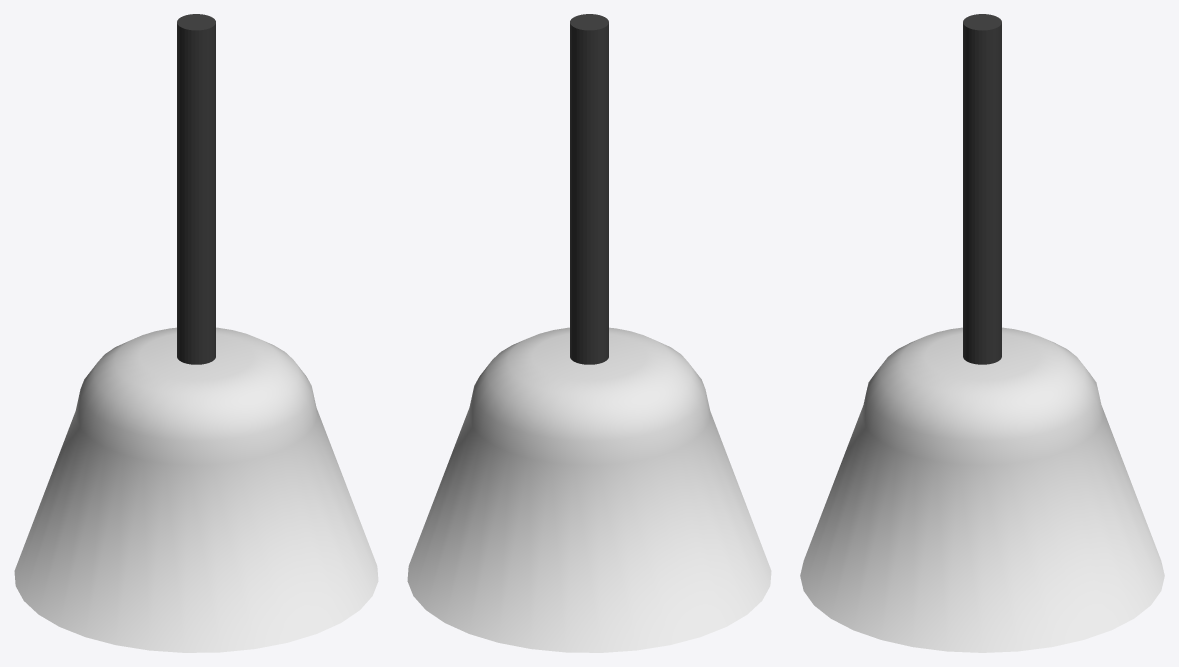
The model's file is Mesh_Static_LampSuper_0.fbx.
3 views of the same model, side by side, from view 1: azimuth 30°, elevation 25°; view 2: azimuth 150°, elevation 25°; view 3: azimuth 270°, elevation 25° (orthographic).
Visible parts, largest first — view 1: lamp_supermarket; view 2: lamp_supermarket; view 3: lamp_supermarket.
Boxes of the visible parts, left/top/right/bottom form: lamp_supermarket: left=14, top=14, right=378, bottom=652; lamp_supermarket: left=407, top=14, right=771, bottom=652; lamp_supermarket: left=800, top=14, right=1164, bottom=652.
Bounding box in the file's own units: 301 × 505 × 301.
